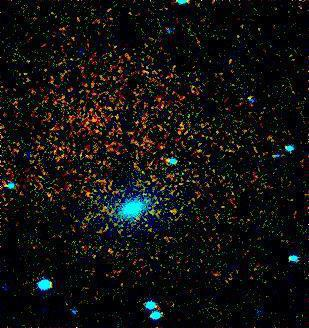star: (153, 196, 183, 226)
